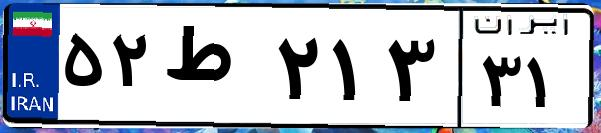1: (330, 28, 385, 110), (525, 38, 570, 115)
2: (270, 28, 330, 110), (110, 28, 158, 98)
3: (385, 28, 445, 110), (475, 38, 525, 113)
5: (57, 26, 110, 100)
ط: (158, 20, 270, 120)
